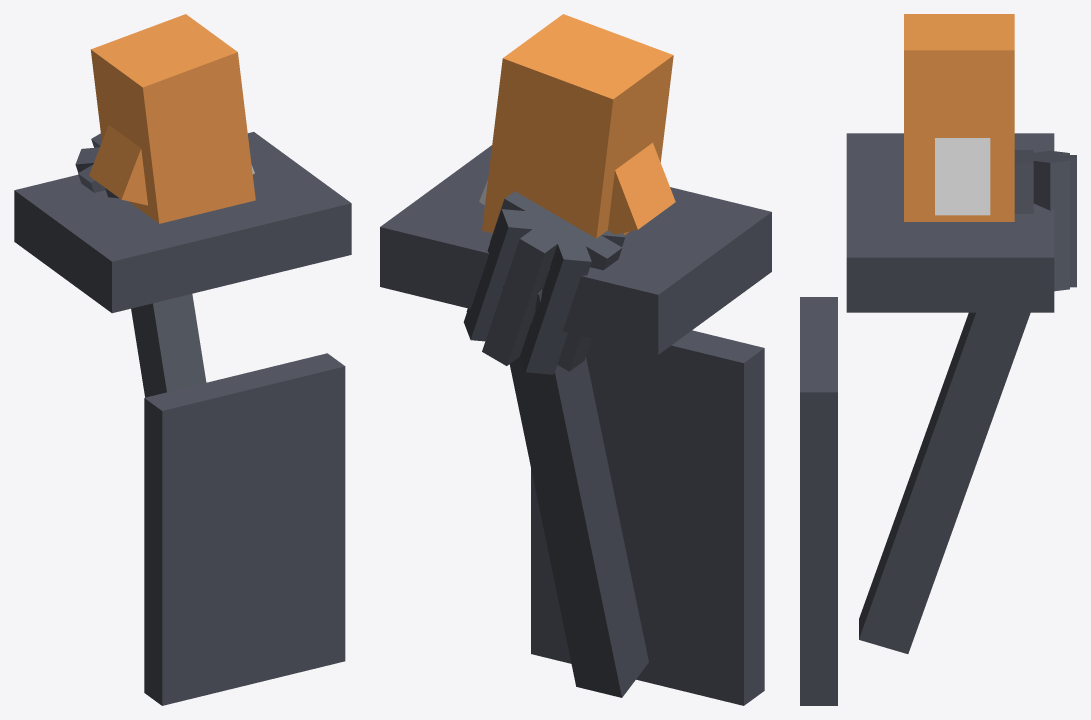
The model's file is torch.glb.
3 renders of one model, left to right at view 1: azimuth 30°, elevation 25°; view 2: azimuth 150°, elevation 25°; view 3: azimuth 270°, elevation 25°, orthographic. The views are drawn at different scales.
Visible parts, largest first — view 1: Gothic Castle Torch; view 2: Gothic Castle Torch; view 3: Gothic Castle Torch.
Boxes of the visible parts, x1=… form: Gothic Castle Torch: x1=14, y1=14, x2=351, y2=705; Gothic Castle Torch: x1=380, y1=14, x2=771, y2=705; Gothic Castle Torch: x1=800, y1=14, x2=1076, y2=705.
Bounding box in the file's own units: 1.7 × 3.99 × 1.6.
